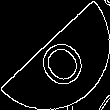O_NW: (23, 22, 87, 88)
